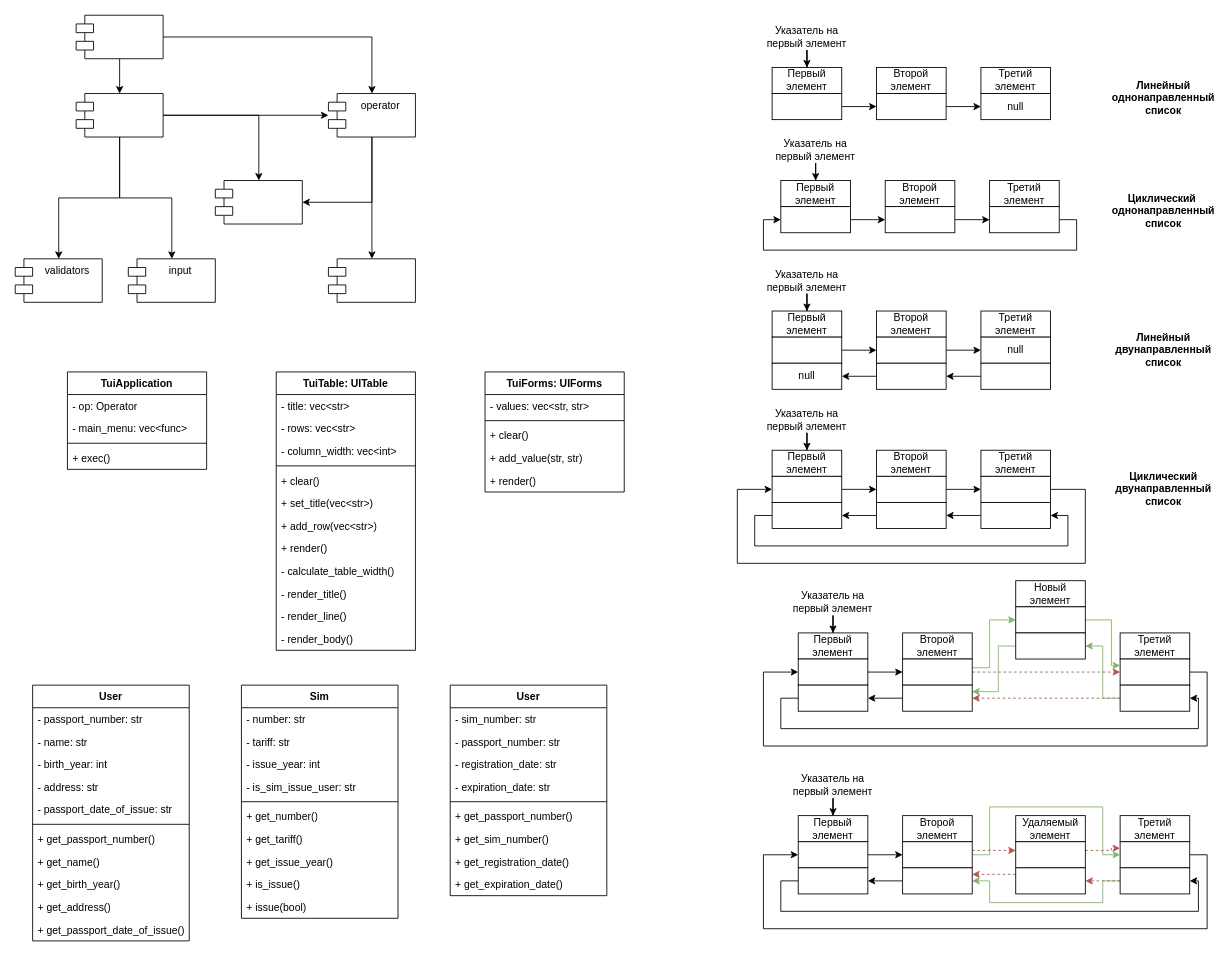
The diagram is 1230 pixels wide and 959 high, and some of its shapes have lost their labels. Each missing label, with the centre of its shape:
algo: the point at 371,280
entities: the point at 258,202
main: the point at 119,36
tui: the point at 119,115
